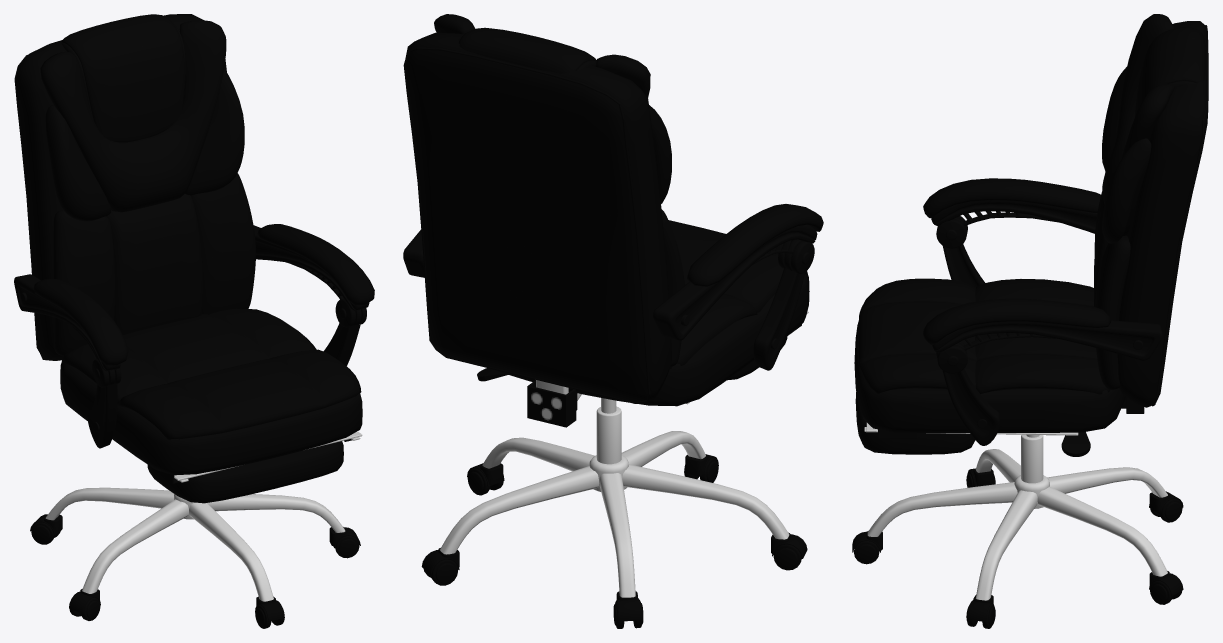
Rendered from chair2.glb.
The picture shows the model from 3 angles, left to right: view 1: azimuth 30°, elevation 25°; view 2: azimuth 150°, elevation 25°; view 3: azimuth 270°, elevation 25°; orthographic projection. The views are drawn at different scales.
Visible parts, largest first — view 1: DF641019_Plane.001_0; view 2: DF641019_Plane.001_0; view 3: DF641019_Plane.001_0.
Boxes of the visible parts, bbox=[...] form: DF641019_Plane.001_0: bbox=[14, 14, 374, 628]; DF641019_Plane.001_0: bbox=[403, 14, 823, 628]; DF641019_Plane.001_0: bbox=[852, 14, 1208, 628].
Bounding box in the file's own units: 0.6818 × 1.11 × 0.6977.
1 material, 1 textured.
